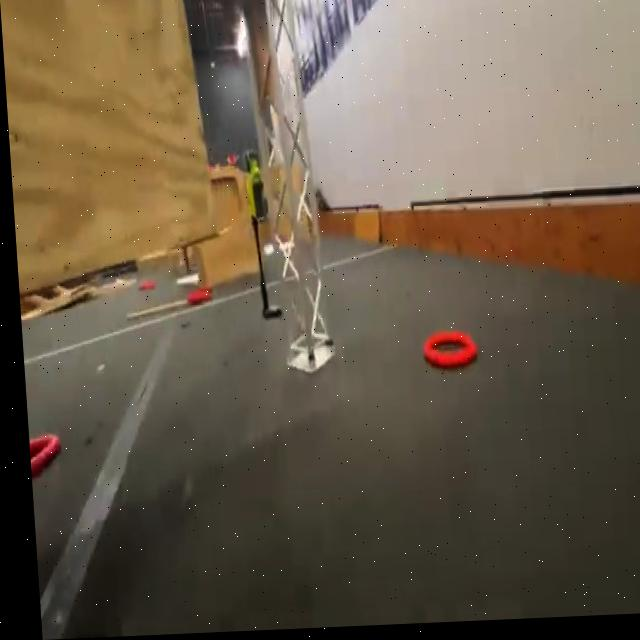note: (416, 333, 474, 373), (22, 423, 58, 479), (182, 290, 211, 309), (135, 277, 151, 296)
